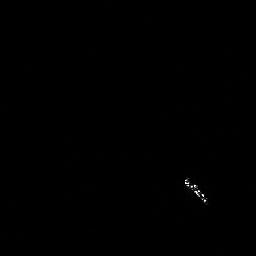ship: (180, 173, 211, 208)
